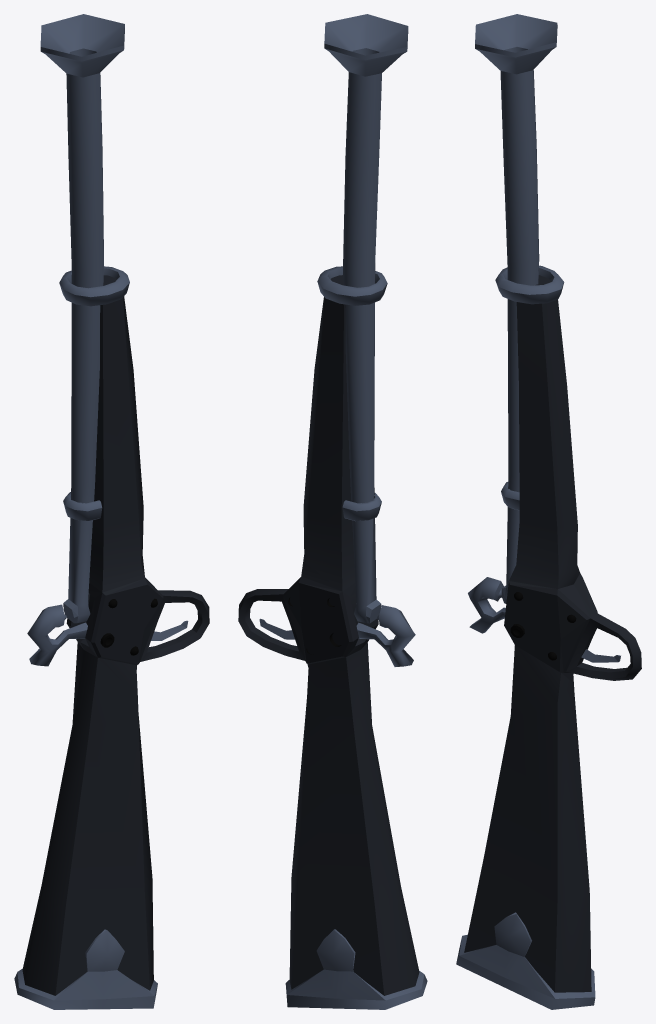
File: Gun.fbx
3 views of the same model, side by side, from view 1: azimuth 30°, elevation 25°; view 2: azimuth 150°, elevation 25°; view 3: azimuth 330°, elevation 25° (orthographic). The views are drawn at different scales.
Parts seen in each view (by area): view 1: Gun; view 2: Gun; view 3: Gun.
Boxes of the visible parts, box(x1,y1,x2,y2) form: Gun: box(14, 14, 209, 1009); Gun: box(238, 14, 427, 1009); Gun: box(456, 14, 641, 1009).
Size of the model in its own units: 23.46 by 116 by 9.87.
